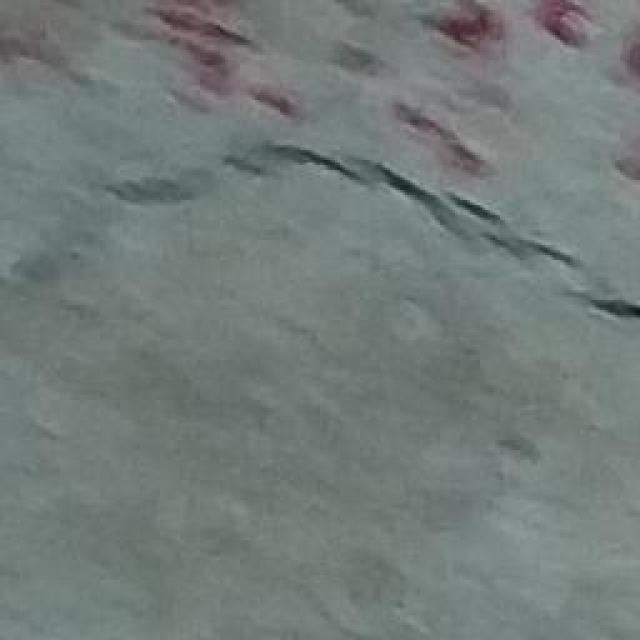Transverse: (0, 91, 640, 321)
